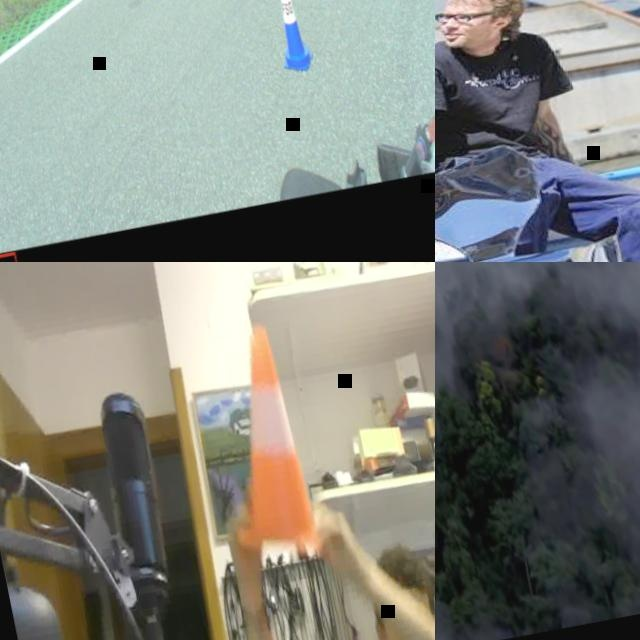NO-Hardhat: (370, 537, 433, 609), (443, 0, 522, 14)
NO-Mask: (439, 17, 499, 49)
NO-Safety Vest: (435, 19, 564, 167)
Person: (435, 0, 640, 262), (216, 462, 435, 640)
Safety Cone: (192, 307, 342, 575), (262, 0, 315, 74)
vehicle: (252, 10, 435, 200)
